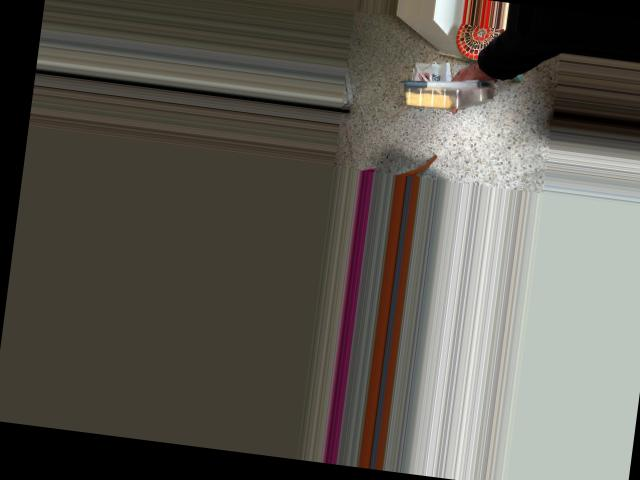cheese: (396, 22, 483, 138)
